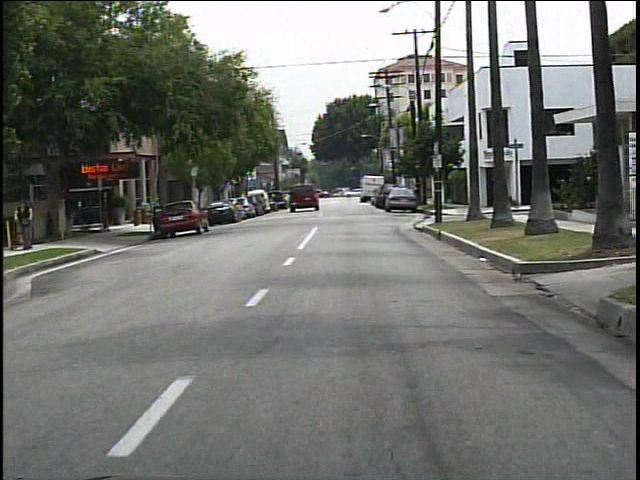person: (17, 197, 42, 252)
